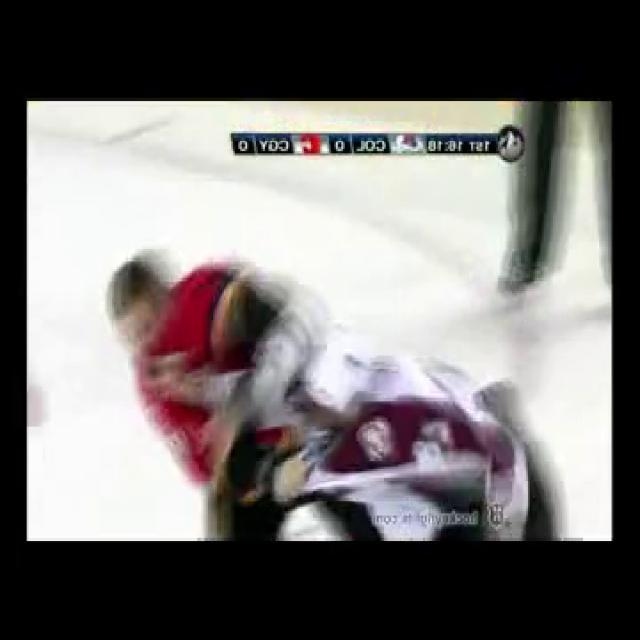non-violence: (501, 99, 612, 297)
violence: (108, 253, 562, 542)
